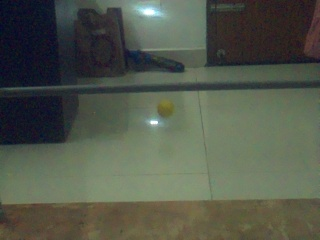ball: (157, 99, 174, 117)
